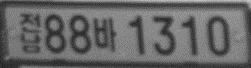0: (206, 15, 230, 56)
1: (180, 15, 203, 56), (126, 15, 149, 54)
3: (152, 15, 176, 56)
8: (43, 13, 66, 53), (69, 13, 91, 53)
바: (93, 16, 116, 51)
전남_V: (19, 12, 42, 53)
